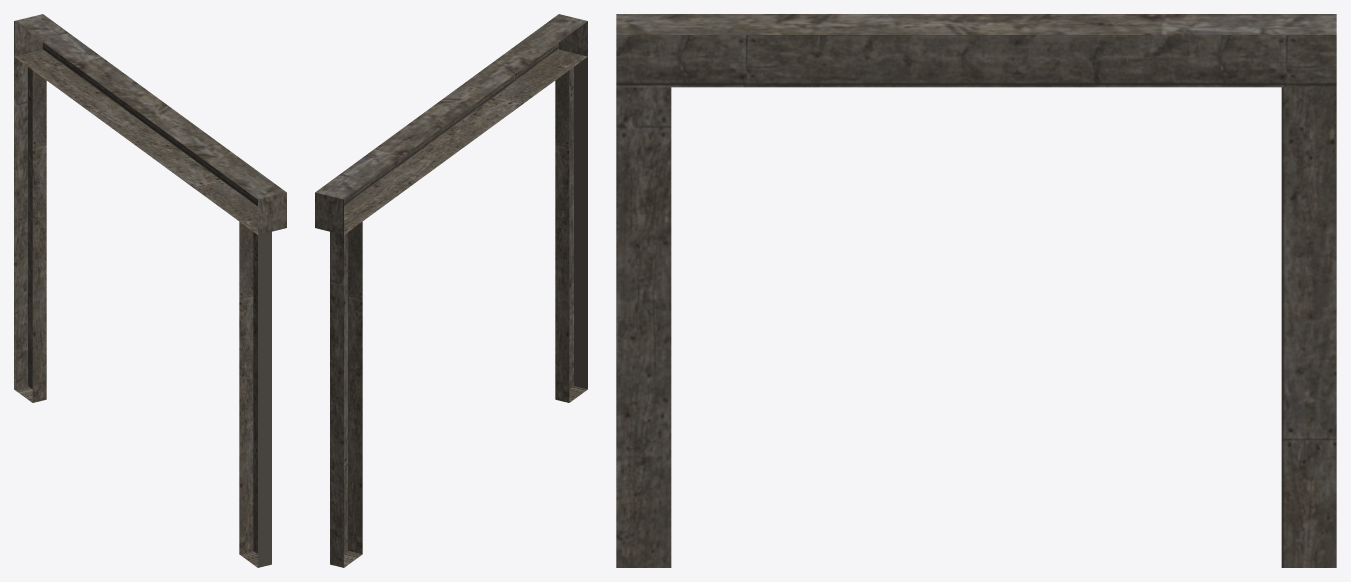
Rendered from DoorFrame.fbx.
The picture shows the model from 3 angles, left to right: view 1: azimuth 30°, elevation 25°; view 2: azimuth 150°, elevation 25°; view 3: azimuth 270°, elevation 25°; orthographic projection. The views are drawn at different scales.
Parts seen in each view (by area): view 1: door frame; view 2: door frame; view 3: door frame.
Part boxes in pixels (x1,y1,x2,y2): door frame: (14,14,286,567); door frame: (315,14,587,567); door frame: (616,14,1336,567).
Bounding box in the file's own units: 41.21 × 500 × 600.
